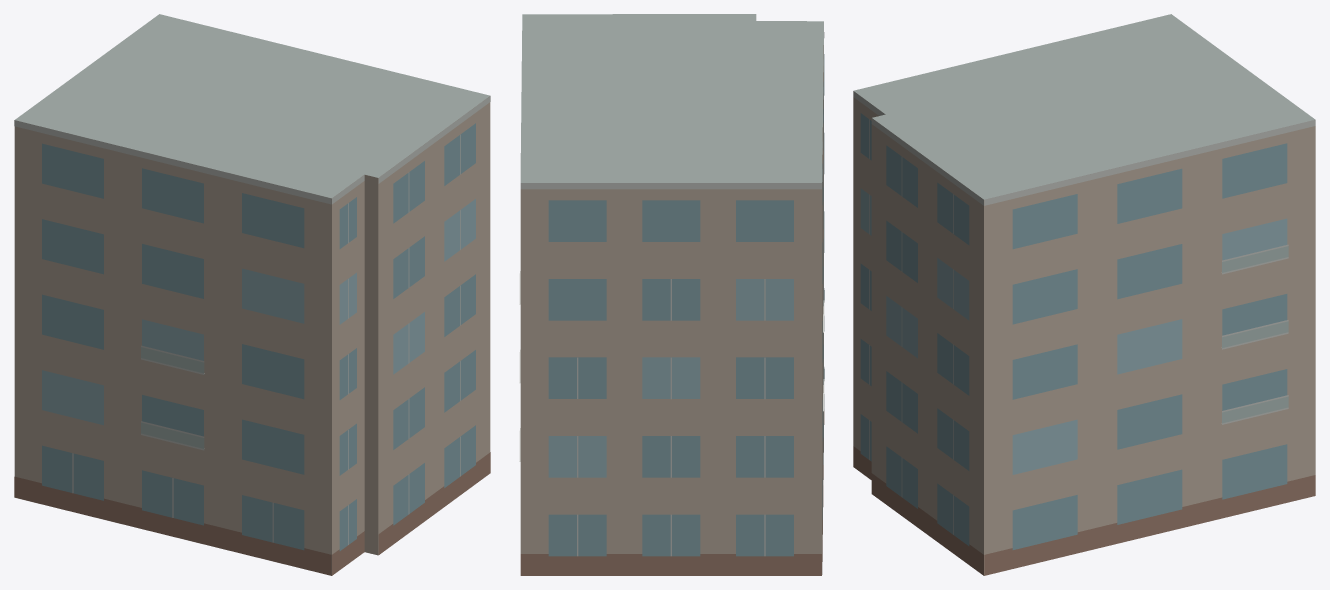
The model's file is survey-upis-32913330.glb.
The picture shows the model from 3 angles, left to right: view 1: azimuth 30°, elevation 25°; view 2: azimuth 150°, elevation 25°; view 3: azimuth 270°, elevation 25°; orthographic projection. The views are drawn at different scales.
Visible parts, largest first — view 1: survey-upis-32913330.tmp; view 2: survey-upis-32913330.tmp; view 3: survey-upis-32913330.tmp.
Boxes of the visible parts, <box> form: survey-upis-32913330.tmp: <box>14,14,490,575</box>; survey-upis-32913330.tmp: <box>519,14,824,575</box>; survey-upis-32913330.tmp: <box>853,14,1315,575</box>.
Bounding box in the file's own units: 15.68 × 14.8 × 16.5.
